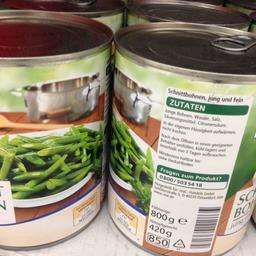beans: (110, 22, 254, 255), (0, 12, 111, 252)
